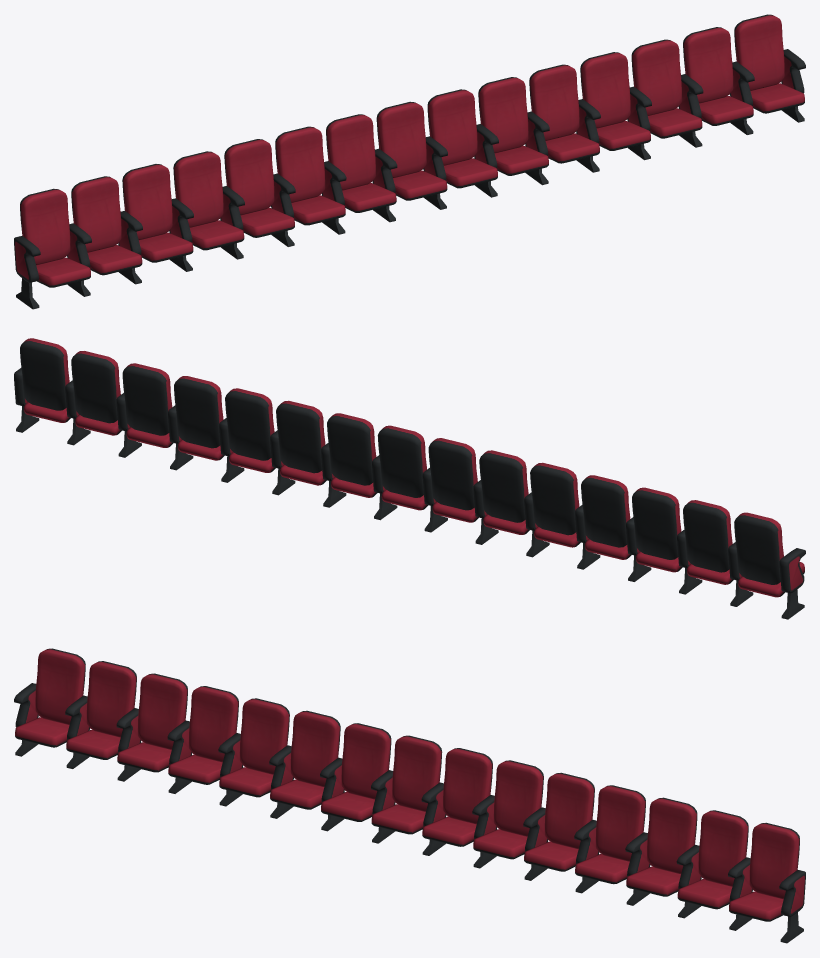
Rendered from CinemaArmChair01_a.FBX.
3 renders of one model, top to bottom at view 1: azimuth 30°, elevation 25°; view 2: azimuth 150°, elevation 25°; view 3: azimuth 330°, elevation 25°, orthographic.
Visible parts, largest first — view 1: CinemaArmChair01_a; view 2: CinemaArmChair01_a; view 3: CinemaArmChair01_a.
Part boxes in pixels (bbox=[...]): CinemaArmChair01_a: bbox=[14, 14, 805, 309]; CinemaArmChair01_a: bbox=[14, 338, 805, 619]; CinemaArmChair01_a: bbox=[14, 648, 805, 943].
Bounding box in the file's own units: 1294 × 154 × 92.31.
